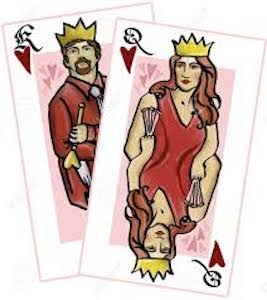KingOfHearts: (1, 12, 116, 287)
QueenOfHearts: (100, 12, 266, 300)
